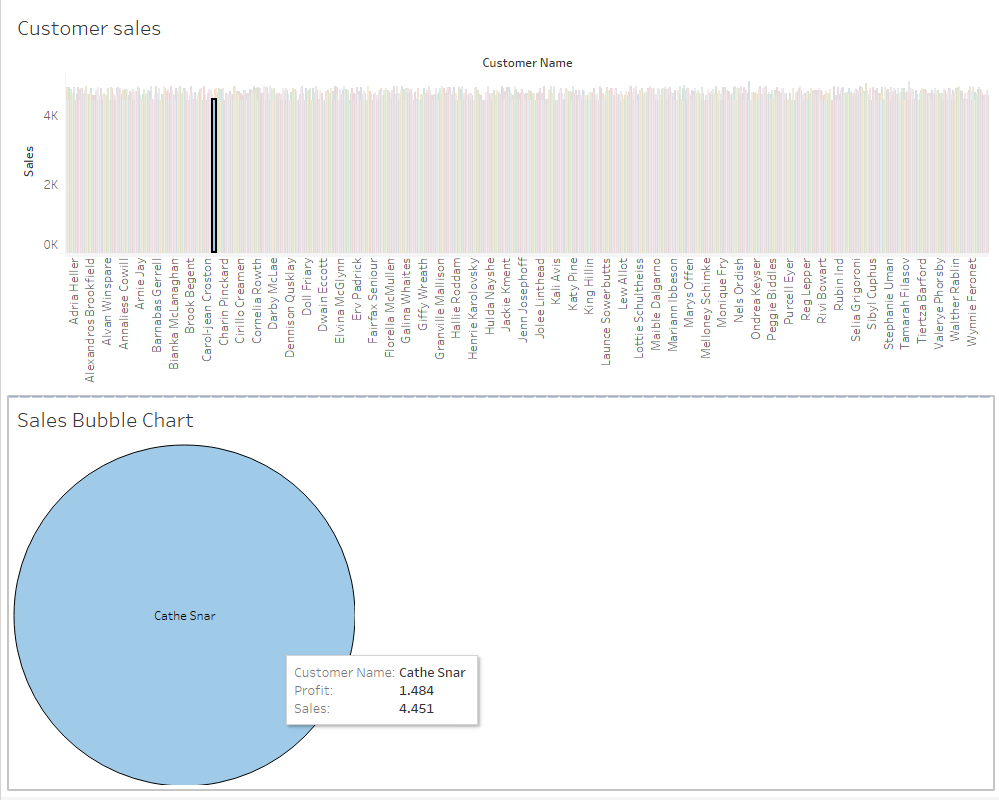

What the dashboard file says about the page in this screenshot:
{"tool":"tableau","page":{"name":"InteractiveDashboard","canvas":[1000,800],"ordinal":0},"visuals":[{"type":"worksheet","title":"Customer sales","mark":"Automatic","rows":["Sales"],"cols":["Customer Name"],"box":[8,8,984,392]},{"type":"worksheet","title":"Sales Bubble Chart","mark":"Circle","box":[8,400,984,392]}]}

Visuals, with their boxes in screenshot pixels (x1, y1, x2, y2), scaled from the page's 1000x800 canvas onto the 999x800 screenshot:
"Customer sales" worksheet: crop(8, 8, 991, 400)
"Sales Bubble Chart" worksheet (Circle marks): crop(8, 400, 991, 792)
